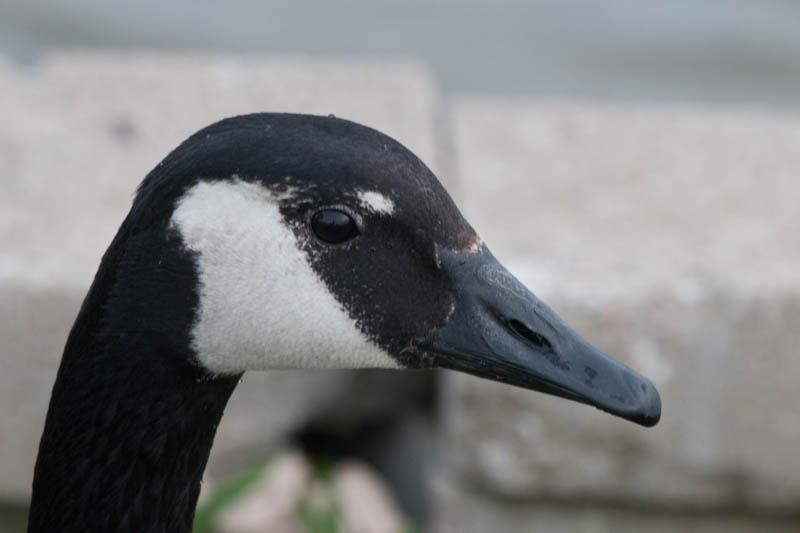goose-head: (106, 111, 662, 430)
